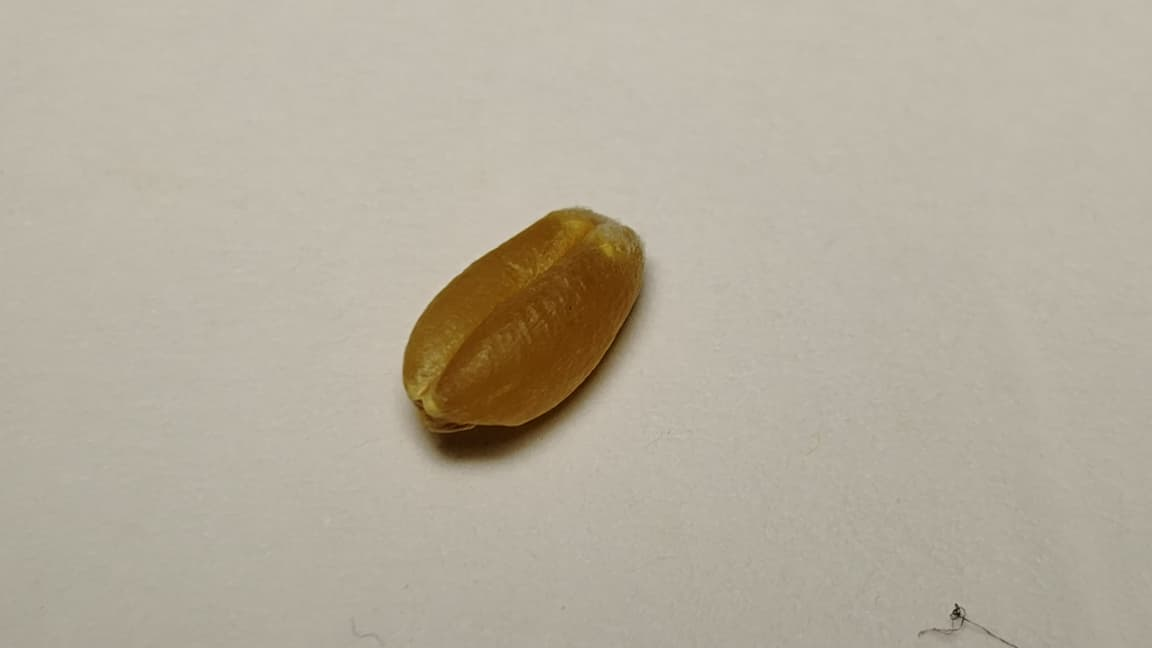healthy: (403, 209, 644, 431)
